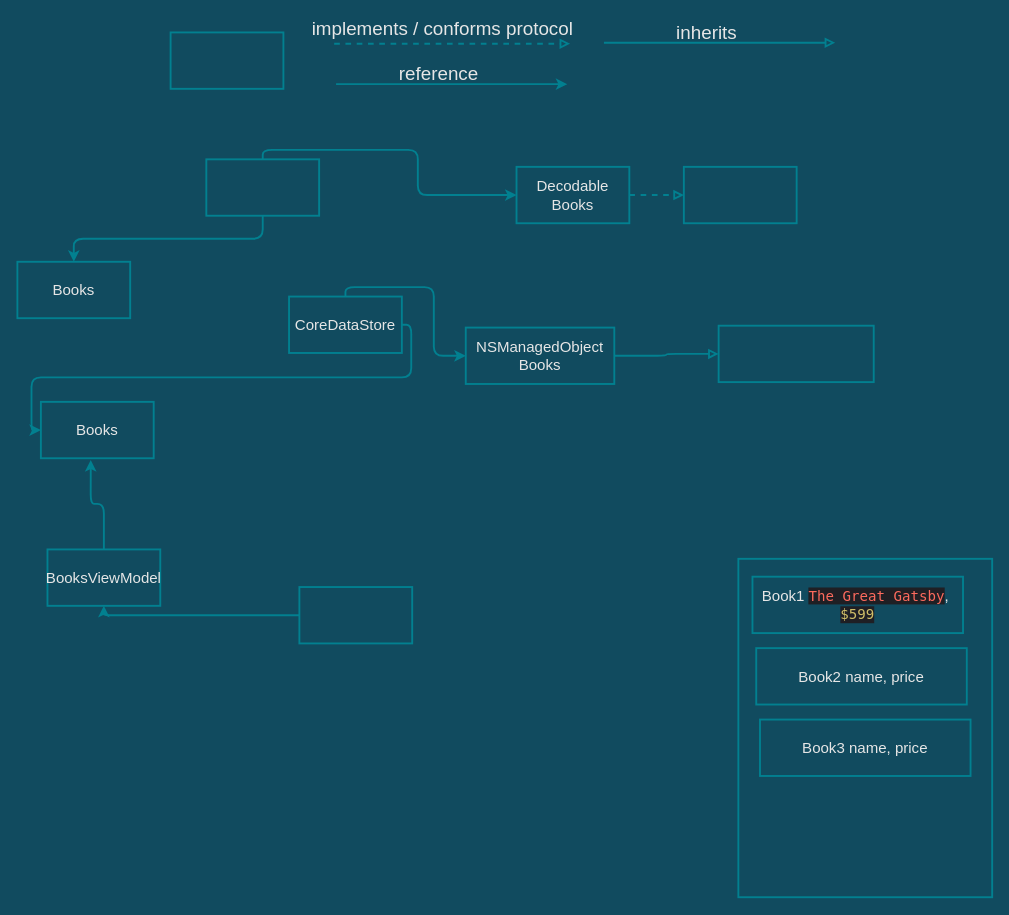
Image size: 1009x915. Some labels were removed from this diagram. Each missing label, with the centre of its shape:
BookDecoder: (x=262, y=187)
Decodable: (x=739, y=194)
NSManagedObject: (x=795, y=353)
viewController: (x=355, y=615)
